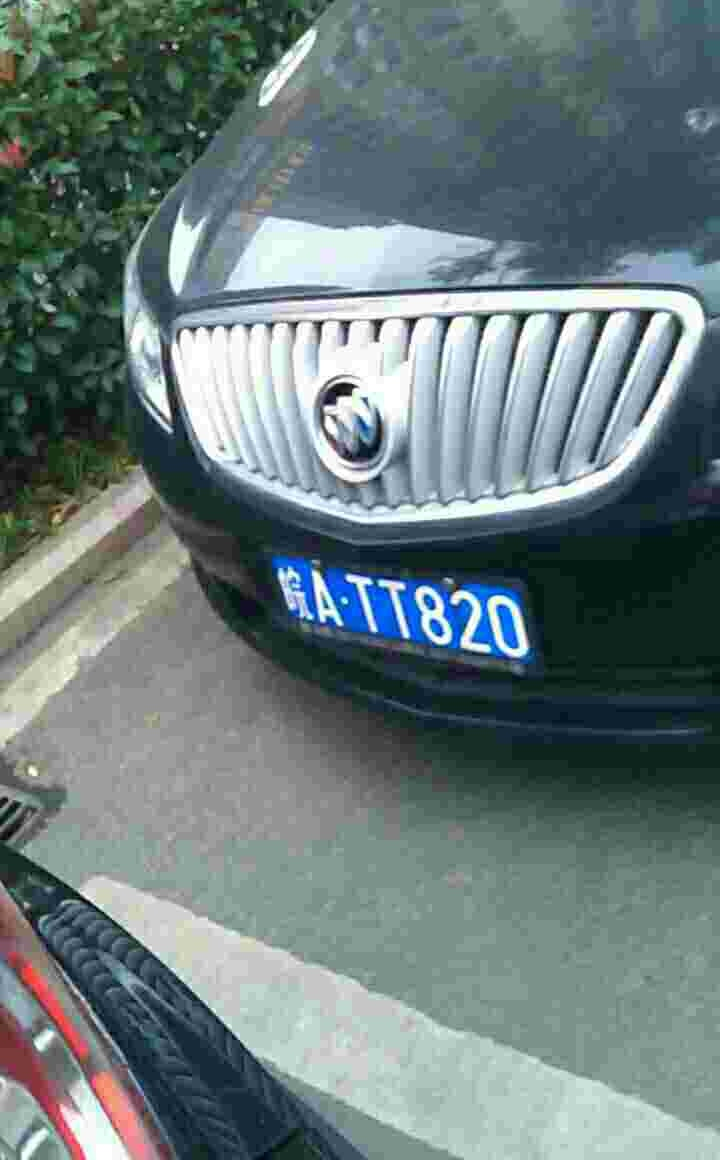license_plate: (277, 562, 533, 664)
